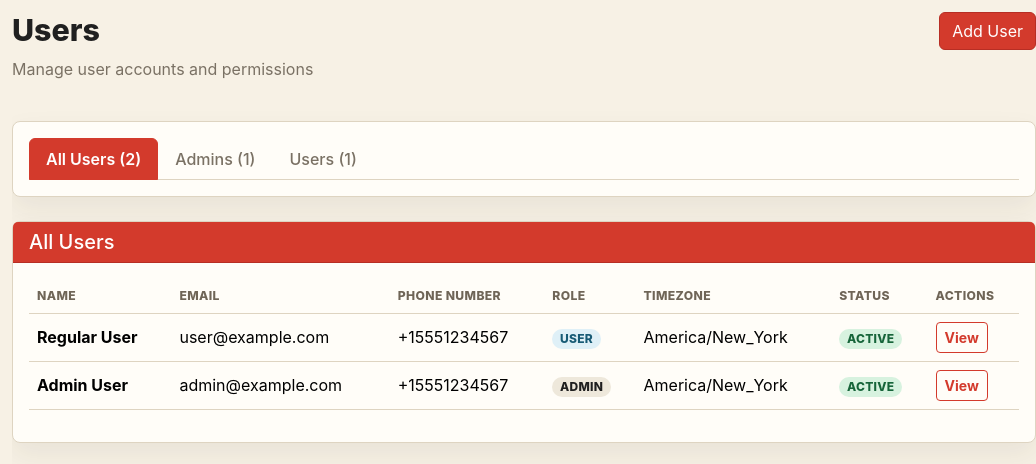
Scenario: UsersPage › filters users by role
The width and height of the screenshot is (1036, 464).
expect the text "Regular User" is shown: met, box [37,327,138,347]
expect the text "Admin User" is shown: met, box [37,375,128,395]
Click the button "Admins (1)" at x=215, y=158, box [158,138,272,180]
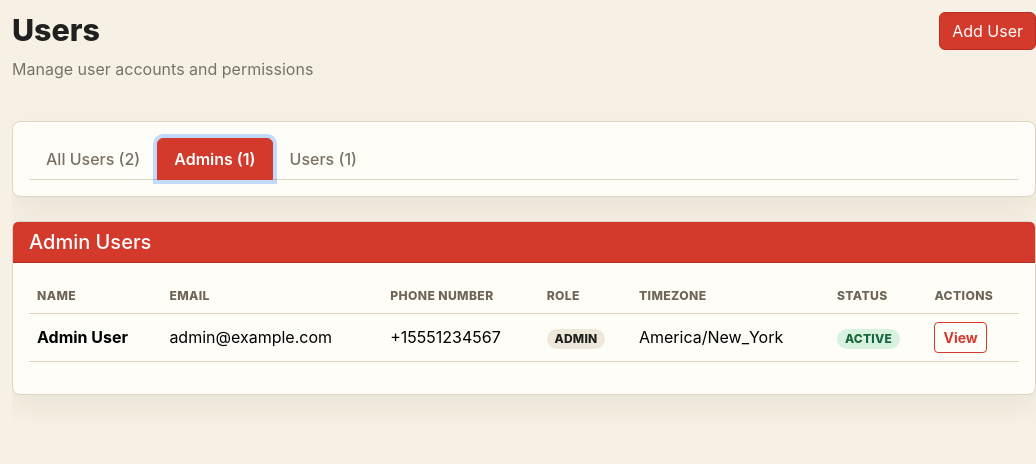
expect the text "Admin User" is shown: met, box [37,327,128,347]
expect the text "Regular User" is gone: met
